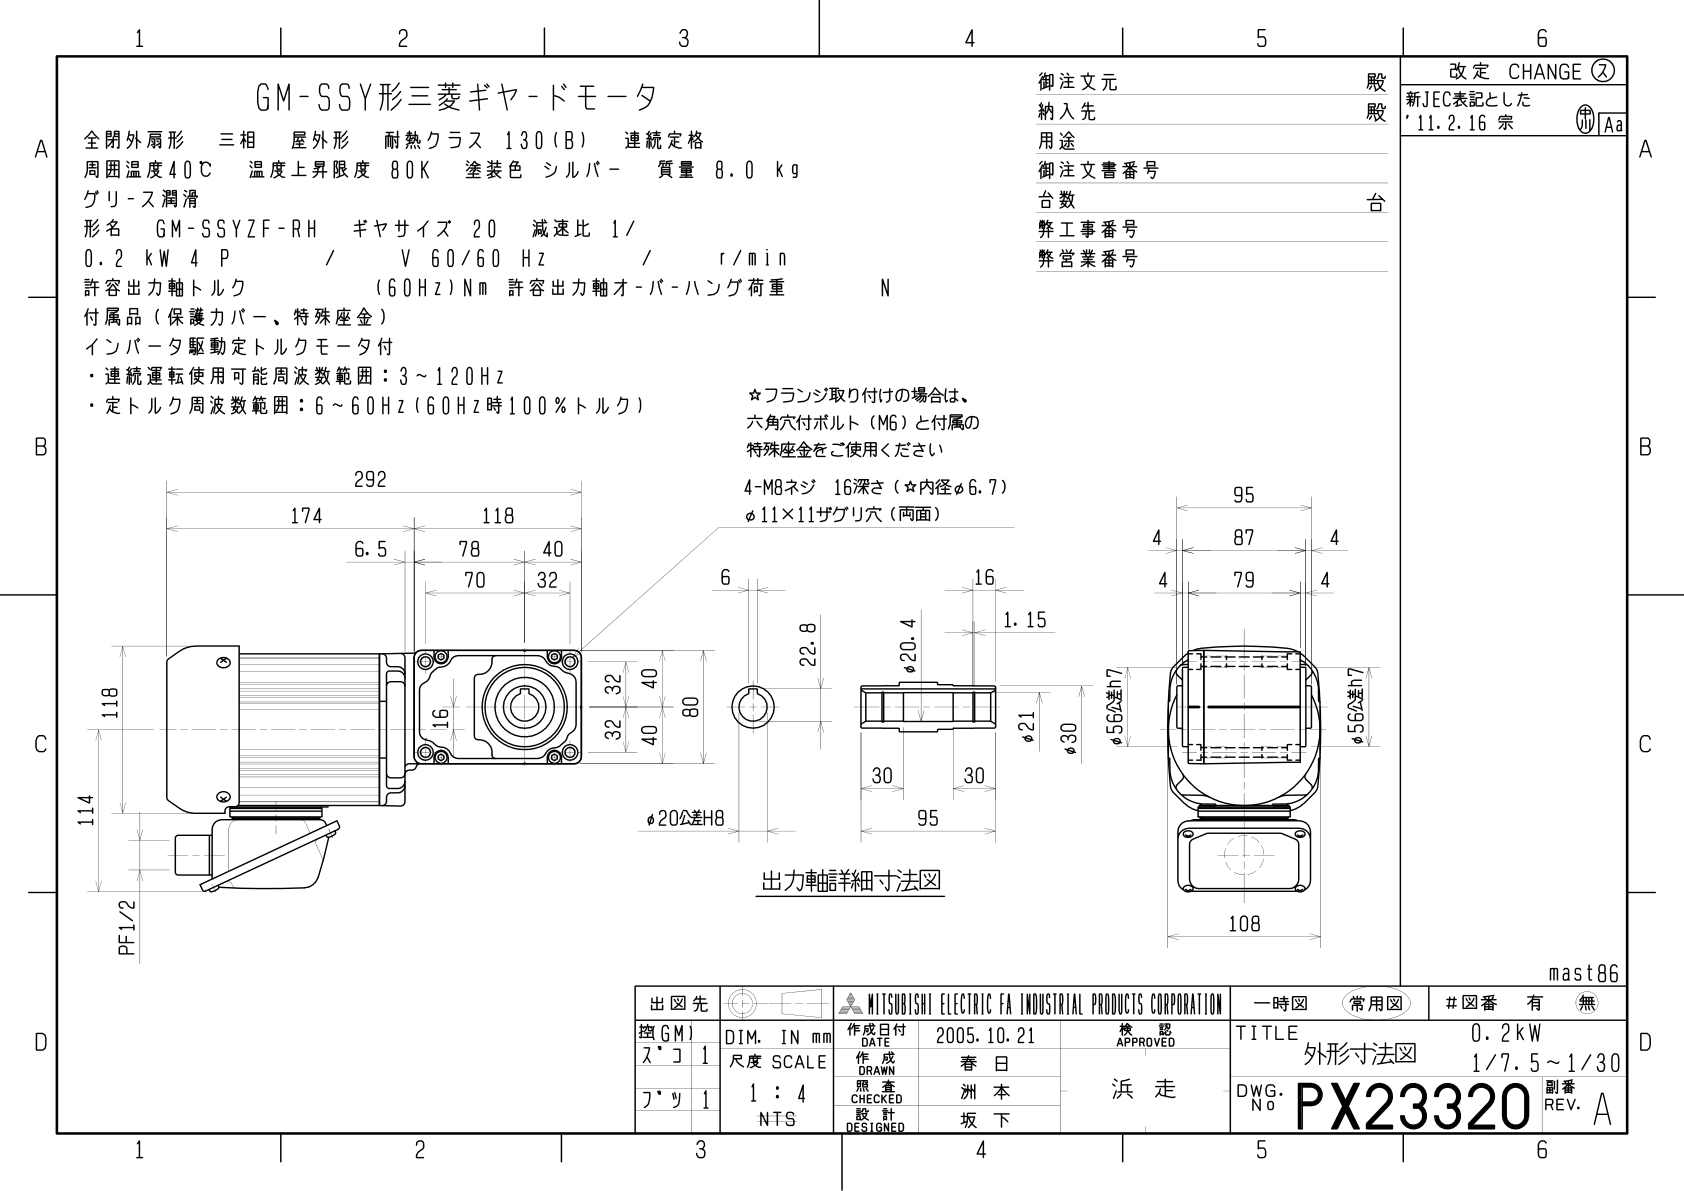GM_SSY_インバータ屋外_三相: (12, 5, 1684, 1191)
